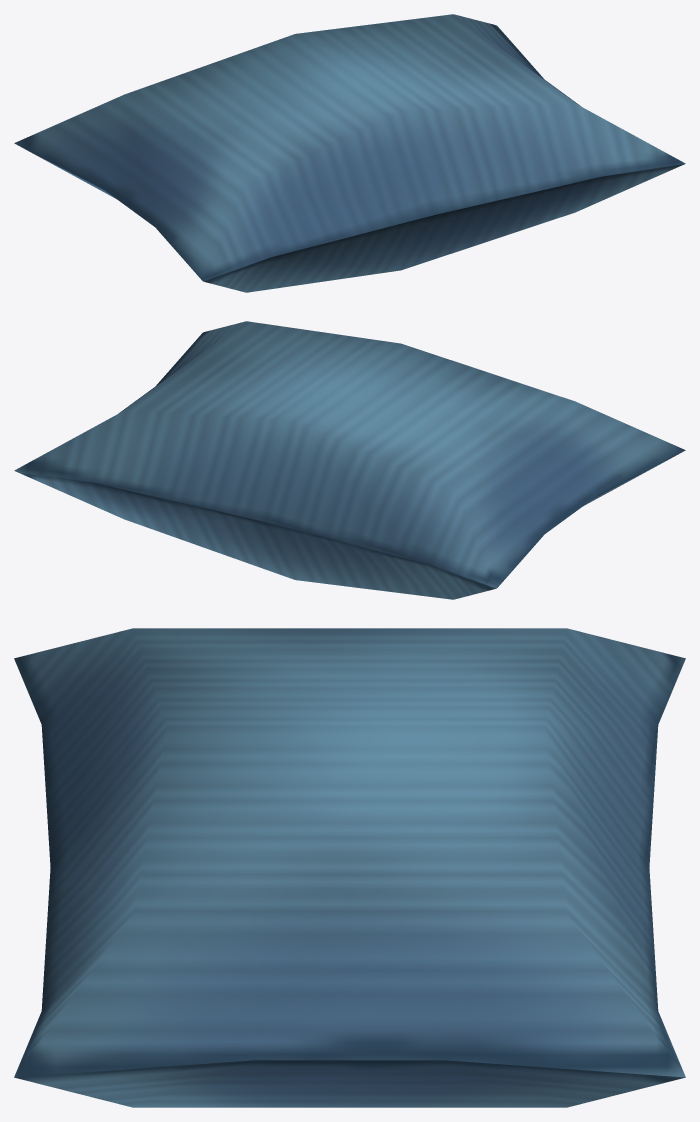
File: AIR0110001.fbx
The picture shows the model from 3 angles, top to bottom: view 1: azimuth 30°, elevation 25°; view 2: azimuth 150°, elevation 25°; view 3: azimuth 270°, elevation 25°; orthographic projection. The views are drawn at different scales.
Visible parts, largest first — view 1: smAIR0110001; view 2: smAIR0110001; view 3: smAIR0110001.
Boxes of the visible parts, x1,y1,x2,y2 form: smAIR0110001: (14,14,685,292); smAIR0110001: (14,321,685,599); smAIR0110001: (14,628,685,1107).
Size of the model in its own units: 94.39 by 29.67 by 63.96.
1 material, 1 textured.
